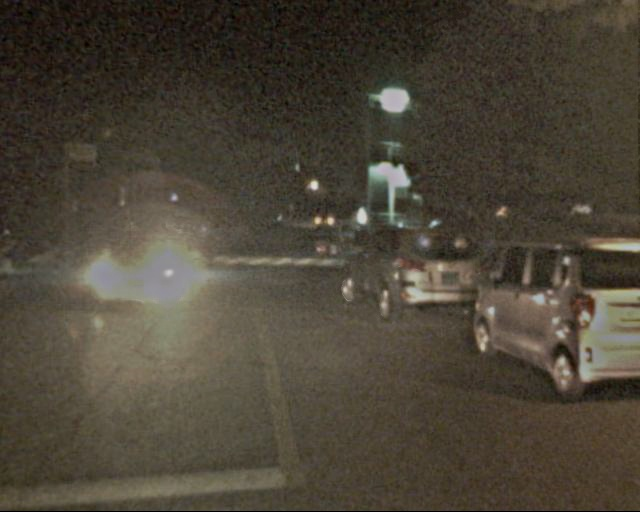person: (348, 217, 375, 273)
